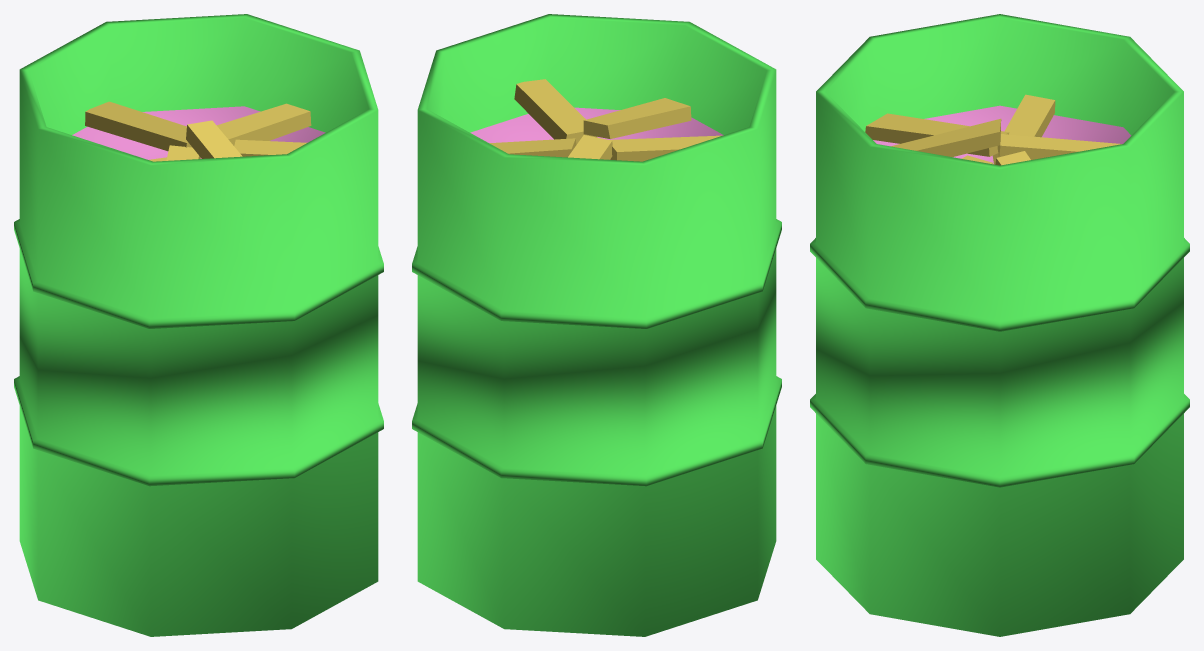
Rendered from Trash Bon Fire.fbx.
The picture shows the model from 3 angles, left to right: view 1: azimuth 30°, elevation 25°; view 2: azimuth 150°, elevation 25°; view 3: azimuth 270°, elevation 25°; orthographic projection.
Visible parts, largest first — view 1: Cylinder.008; view 2: Cylinder.008; view 3: Cylinder.008.
Boxes of the visible parts, bbox=[...] form: Cylinder.008: bbox=[14, 14, 383, 636]; Cylinder.008: bbox=[412, 14, 781, 636]; Cylinder.008: bbox=[810, 14, 1189, 636].
Size of the model in its own units: 103 by 140 by 103.
